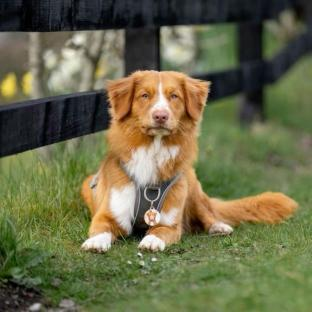Animal: (81, 70, 296, 252)
